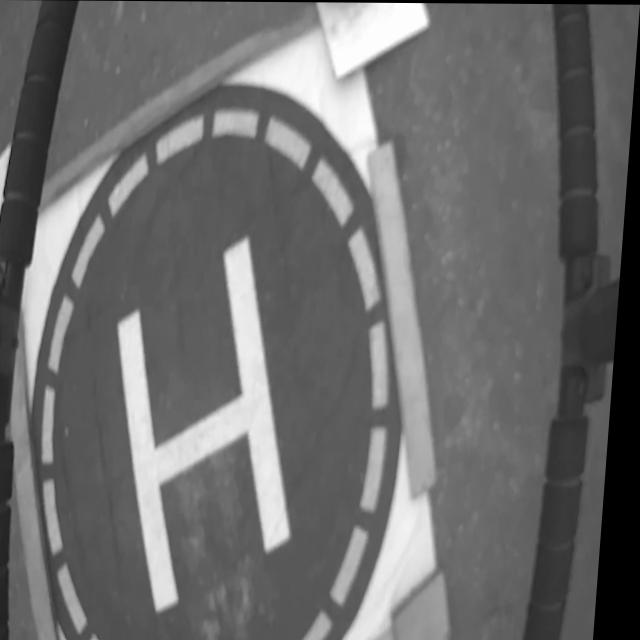Helipad: (122, 235, 302, 613)
